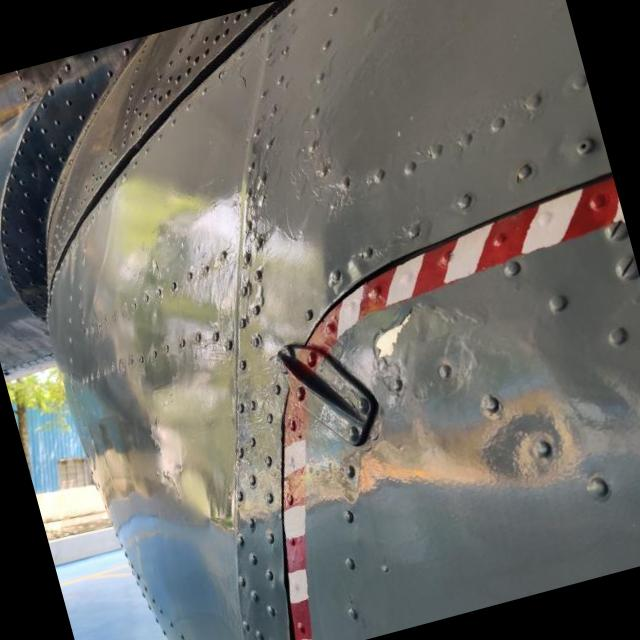Paint-off: (376, 312, 411, 358)
